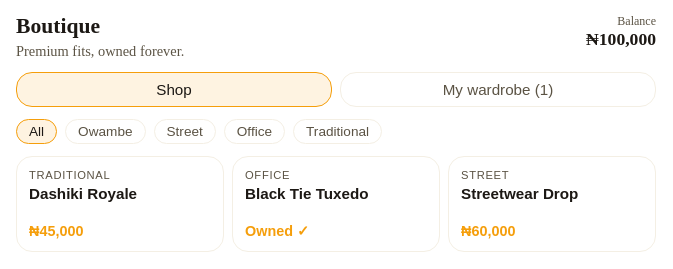
Test: BoutiqueApp shop › wardrobe tab lists owned items with Wear buttons
The width and height of the screenshot is (673, 269).
Expected: the text "Dashiki Royale" is shown, [29,185,137,202]
Step 1. Click the tab "My wardrobe (1)" → coordinates (498, 90), box [340,72,656,107]
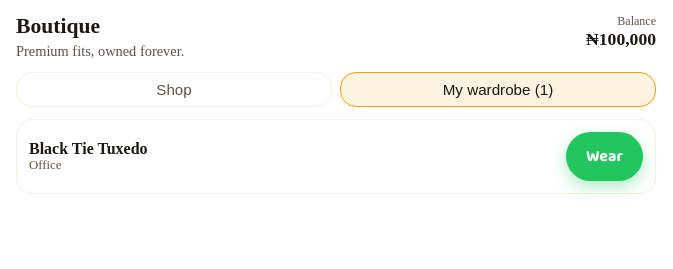
Expected: the text "Black Tie Tuxedo" is shown, [29,140,148,158]
Now the button "Dashiki Royale" is gone
